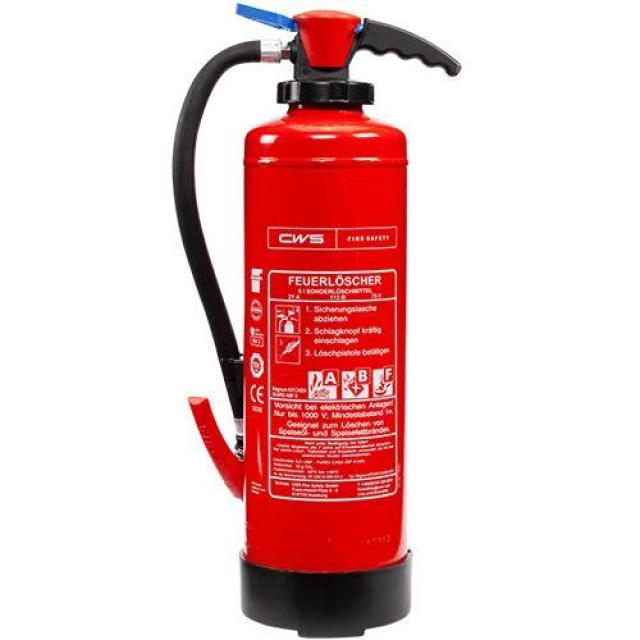fire_extinguisher: (163, 0, 464, 639)
